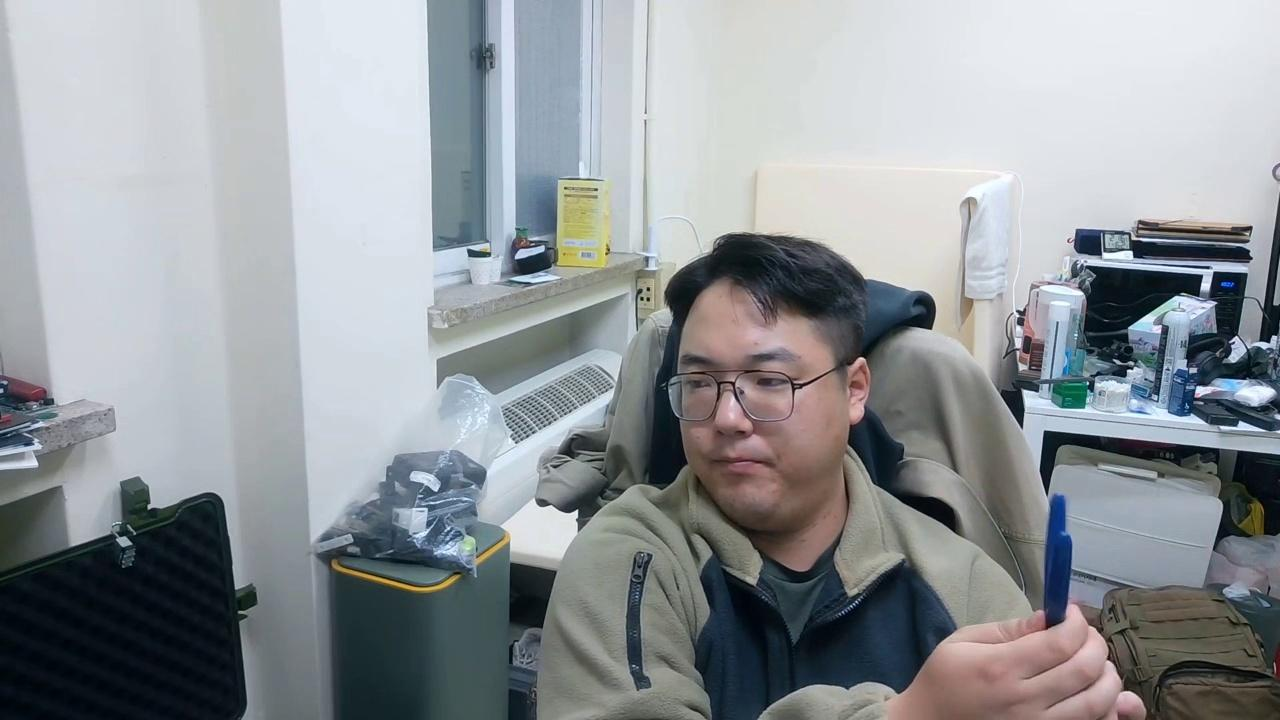blue_pliers: (1041, 492, 1075, 630)
